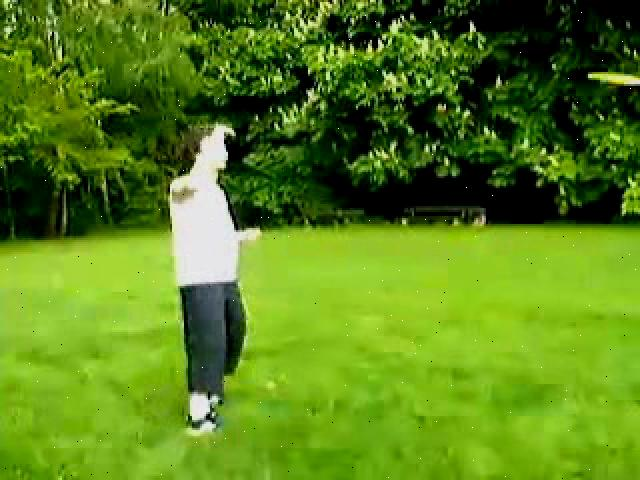T: (158, 111, 273, 446)
